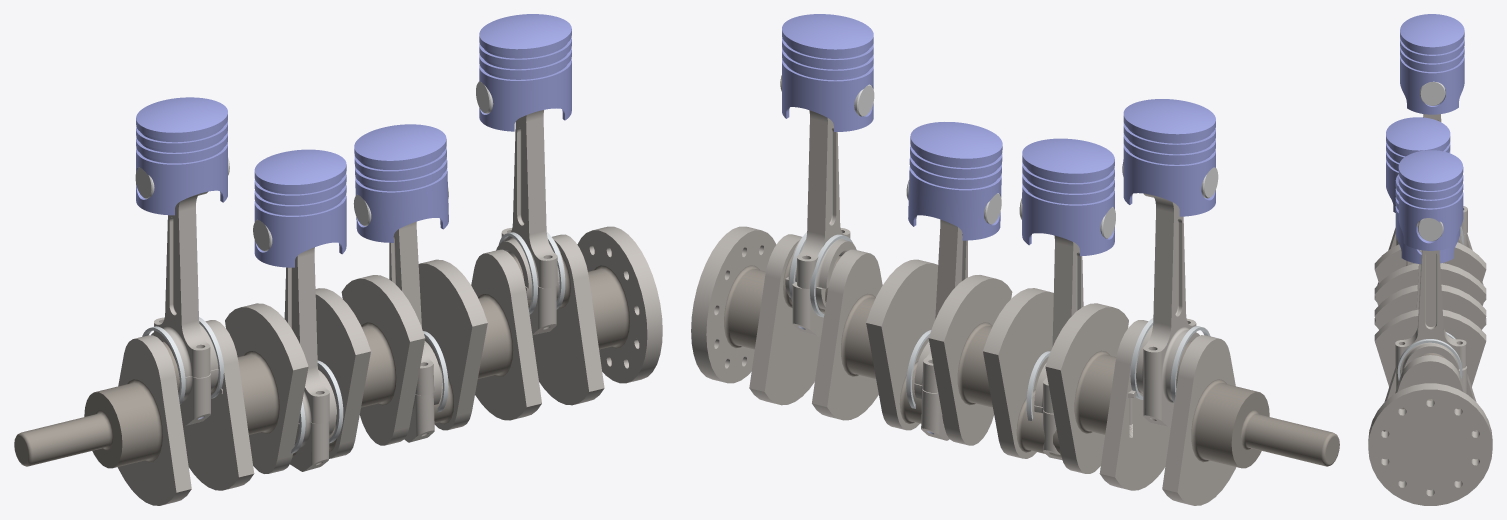
The model's file is Engine.glb.
The picture shows the model from 3 angles, left to right: view 1: azimuth 30°, elevation 25°; view 2: azimuth 150°, elevation 25°; view 3: azimuth 270°, elevation 25°; orthographic projection. The views are drawn at different scales.
Visible parts, largest first — view 1: Crankshaft, Piston.002, Piston.001, Piston.003, Piston, ConnectingRod, ConnectingRod.001, ConnectingRod.003, ConnectingRod.002, ConnectingRodCap.003, ConnectingRodCap, ConnectingRodCap.002 (+1 smaller); view 2: Crankshaft, Piston, Piston.002, Piston.003, Piston.001, ConnectingRod, ConnectingRod.001, ConnectingRod.003, ConnectingRod.002, ConnectingRodCap, ConnectingRodCap.001, ConnectingRodCap.002; view 3: Crankshaft, Piston.001, Piston, ConnectingRod.001, Piston.003, Piston.002, PistonPin, PistonPin.001, PistonRing.003, ConnectingRod, ConnectingRodCap.001.
Boxes of the visible parts, x1,y1,x2,y2 form: Crankshaft: [14, 226, 662, 505]; Piston.002: [354, 124, 448, 242]; Piston.001: [479, 14, 571, 131]; Piston.003: [254, 149, 346, 267]; Piston: [136, 97, 227, 215]; ConnectingRod: [151, 191, 217, 377]; ConnectingRod.001: [496, 110, 565, 288]; ConnectingRod.003: [284, 247, 336, 423]; ConnectingRod.002: [389, 221, 442, 395]; ConnectingRodCap.003: [290, 415, 336, 471]; ConnectingRodCap: [178, 369, 218, 425]; ConnectingRodCap.002: [404, 386, 441, 442]; Crankshaft: [691, 226, 1339, 505]; Piston: [1123, 99, 1215, 216]; Piston.002: [908, 122, 1002, 240]; Piston.003: [1022, 138, 1114, 256]; Piston.001: [782, 14, 873, 131]; ConnectingRod: [1136, 193, 1199, 379]; ConnectingRod.001: [788, 110, 856, 288]; ConnectingRod.003: [1034, 235, 1083, 413]; ConnectingRod.002: [914, 219, 967, 392]; ConnectingRodCap: [1136, 371, 1173, 426]; ConnectingRodCap.001: [785, 277, 825, 336]; ConnectingRodCap.002: [914, 383, 949, 440]; Crankshaft: [1368, 228, 1492, 505]; Piston.001: [1398, 150, 1463, 250]; Piston: [1400, 14, 1464, 114]; ConnectingRod.001: [1395, 222, 1466, 371]; Piston.003: [1386, 117, 1450, 212]; Piston.002: [1395, 174, 1460, 264]; PistonPin: [1420, 81, 1445, 105]; PistonPin.001: [1418, 218, 1443, 241]; PistonRing.003: [1397, 339, 1462, 380]; ConnectingRod: [1423, 114, 1467, 235]; ConnectingRodCap.001: [1396, 366, 1467, 393].
Bounding box in the file's own units: 0.5426 × 0.3262 × 0.1187.
